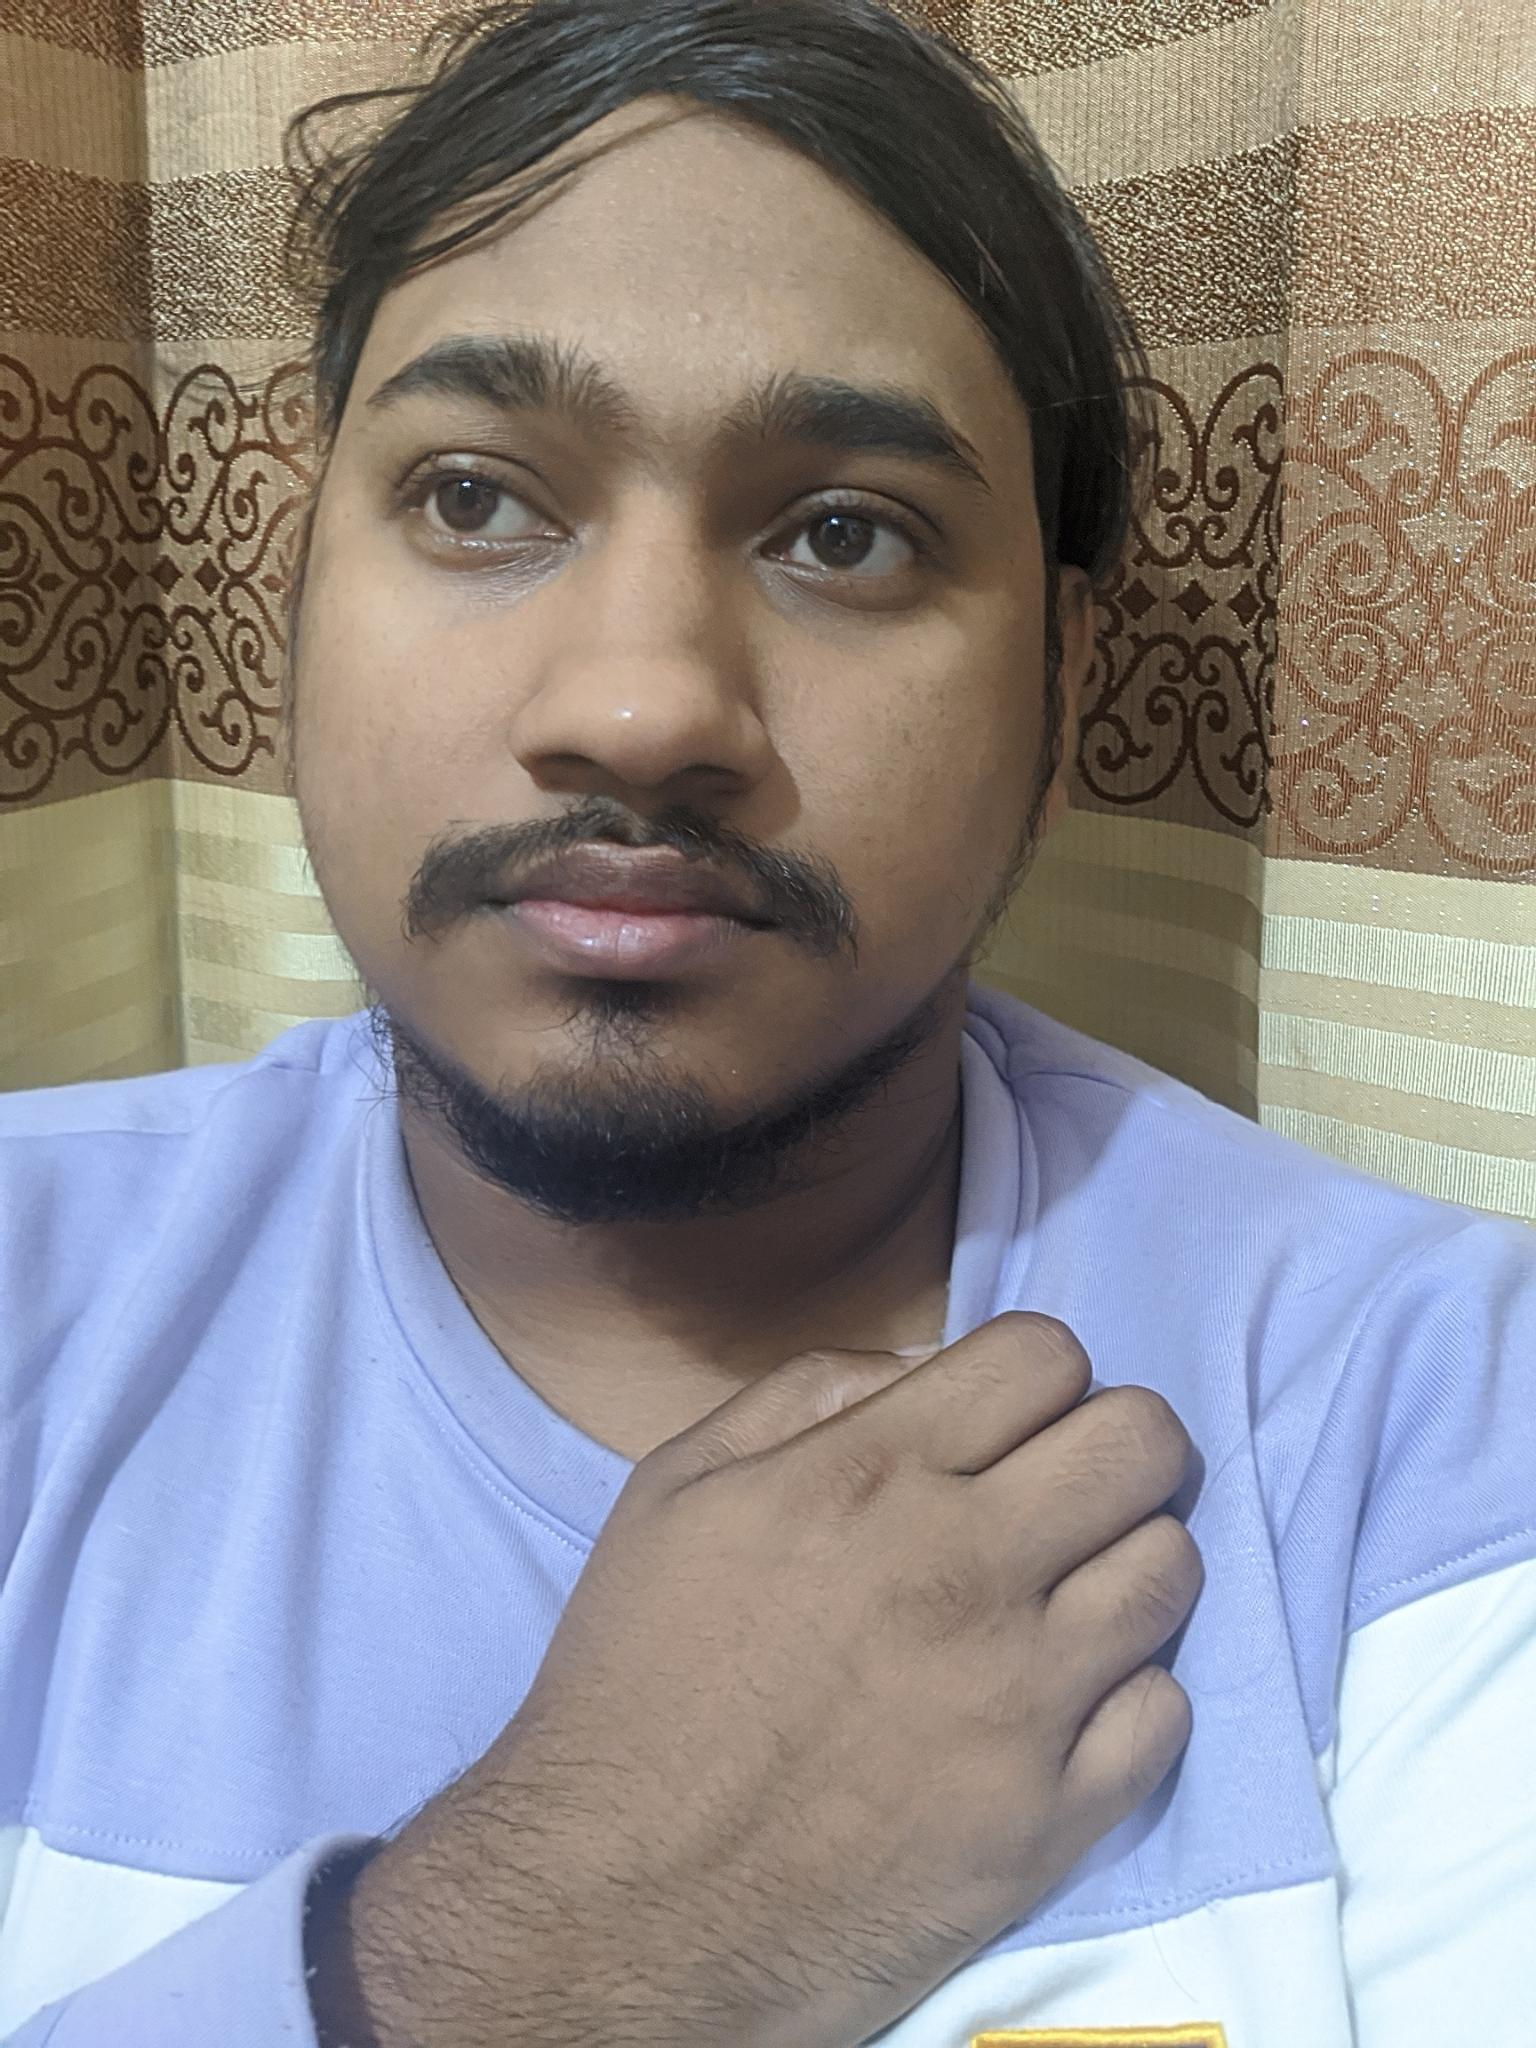Neutral: (313, 245, 1028, 1155)
